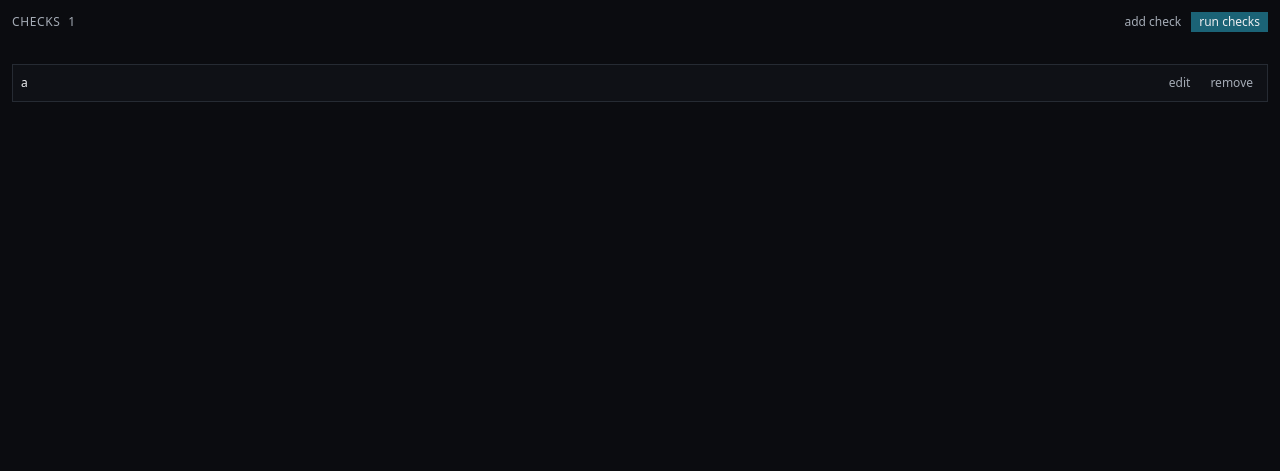
Scenario: ChecksPanel › hides a result once its check is edited, and stops counting it
This screenshot has width=1280, height=471.
Click the button "run checks": point(1230, 22) x1=1191 y1=12 x2=1268 y2=32
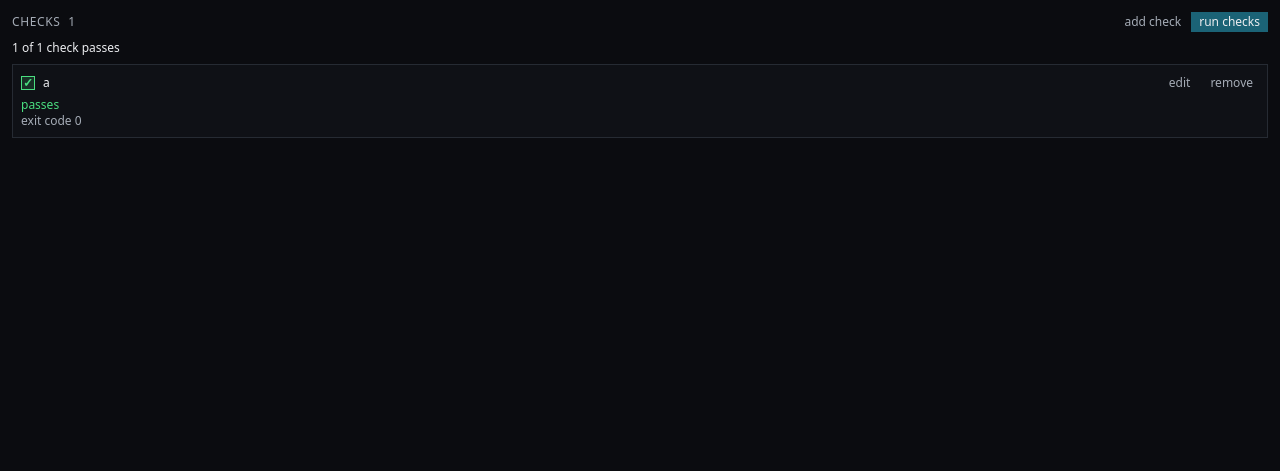
Check: the text "passes" is shown, box x1=21 y1=96 x2=59 y2=113
Click the button with aria-label "edit a": point(1180, 83) x1=1163 y1=73 x2=1196 y2=93
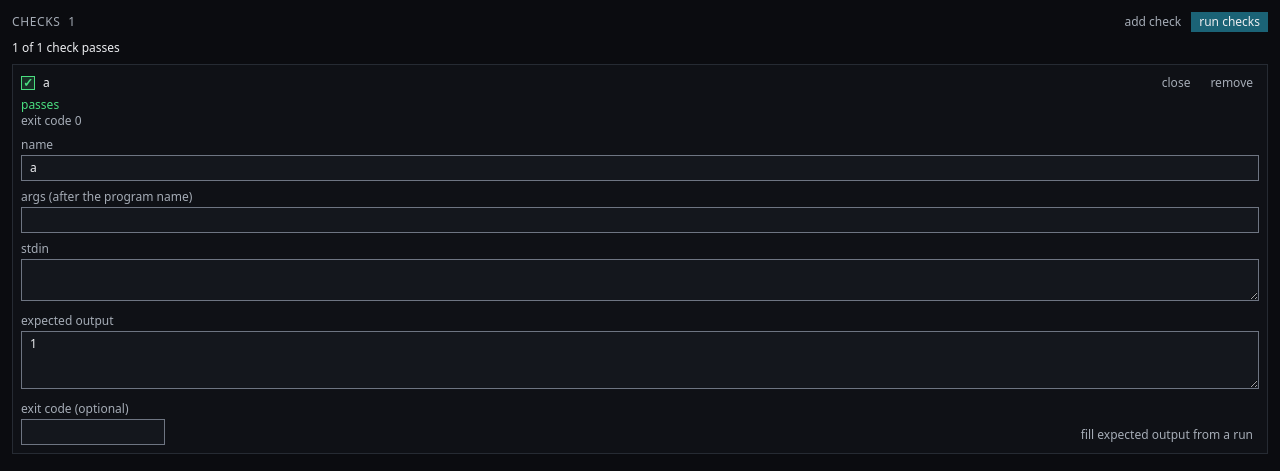
Replace the text in the text box labelled "expected output" with "2 ": point(640, 360) x1=21 y1=331 x2=1259 y2=389
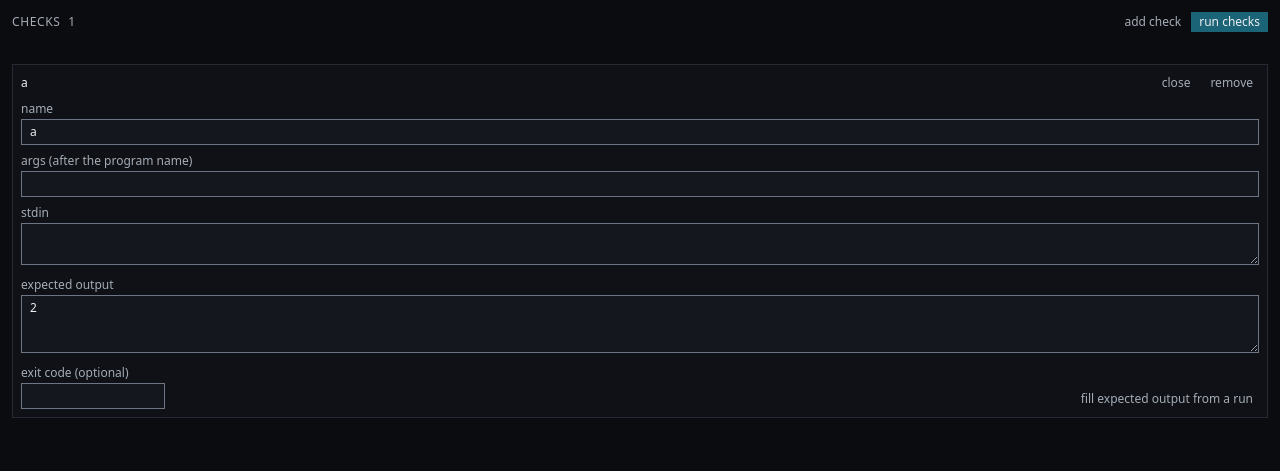
Check: the text "passes" is gone
